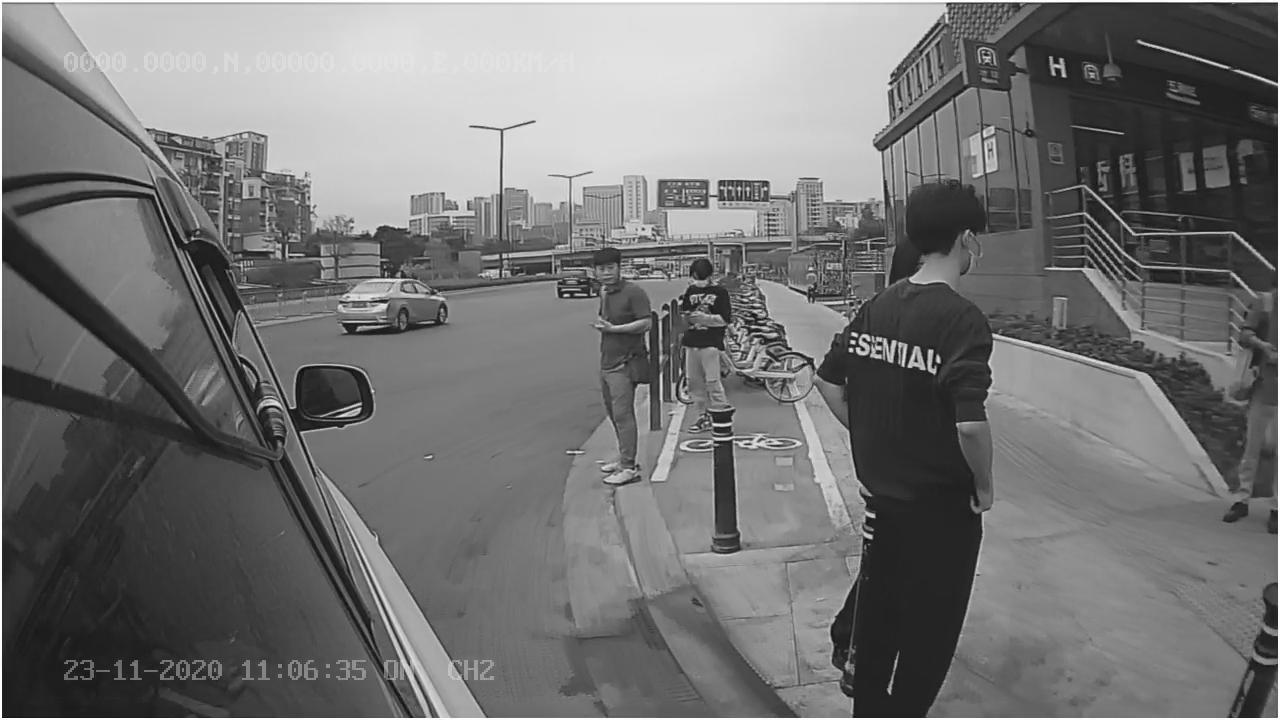person: (574, 247, 651, 486)
